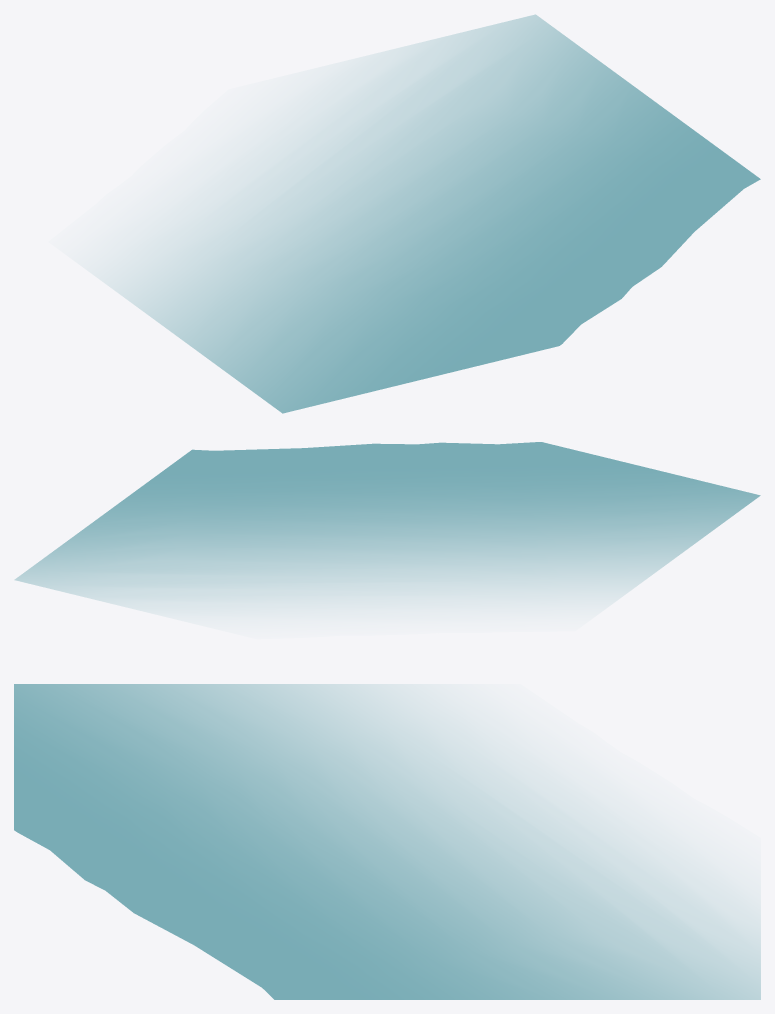
The picture shows the model from 3 angles, top to bottom: view 1: azimuth 30°, elevation 25°; view 2: azimuth 150°, elevation 25°; view 3: azimuth 270°, elevation 25°; orthographic projection. The views are drawn at different scales.
Visible parts, largest first — view 1: city; view 2: city; view 3: city.
Part boxes in pixels (x1=…): city: x1=97, y1=14, x2=760, y2=413; city: x1=14, y1=442, x2=760, y2=613; city: x1=14, y1=684, x2=760, y2=999.
Bounding box in the file's own units: 500 × 0 × 500.
